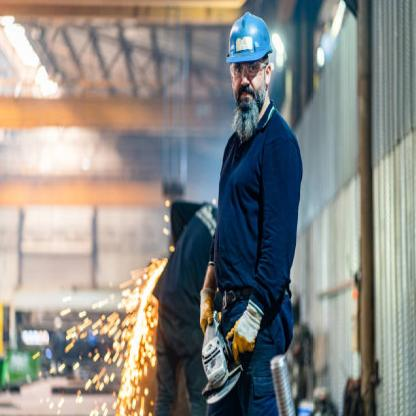capacete: (224, 9, 274, 68)
oculos: (228, 58, 267, 80)
